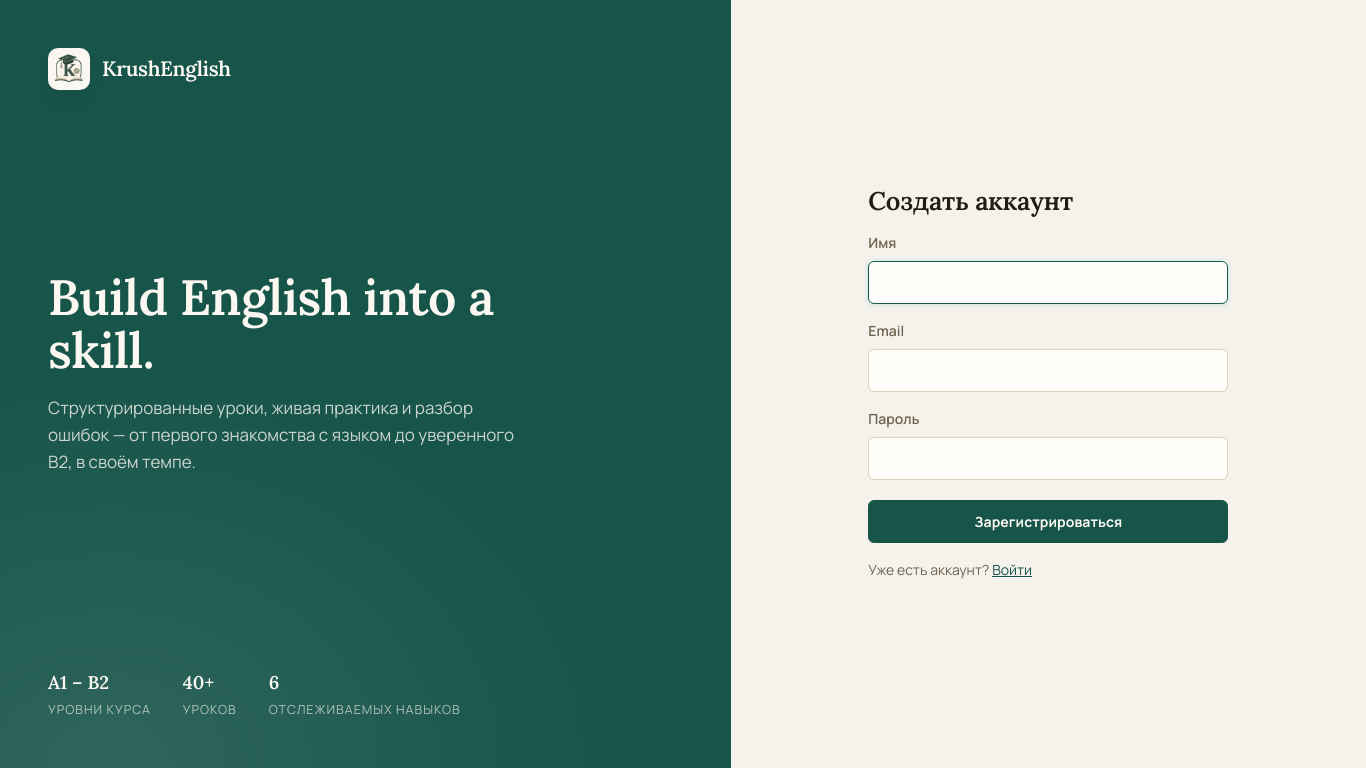
Test: RegisterPage › shows the API's own error message instead of navigating away
The image size is (1366, 768).
Step 1. Type "Анна" into the field labelled "Имя" → point(1048, 282), box [868, 261, 1228, 304]
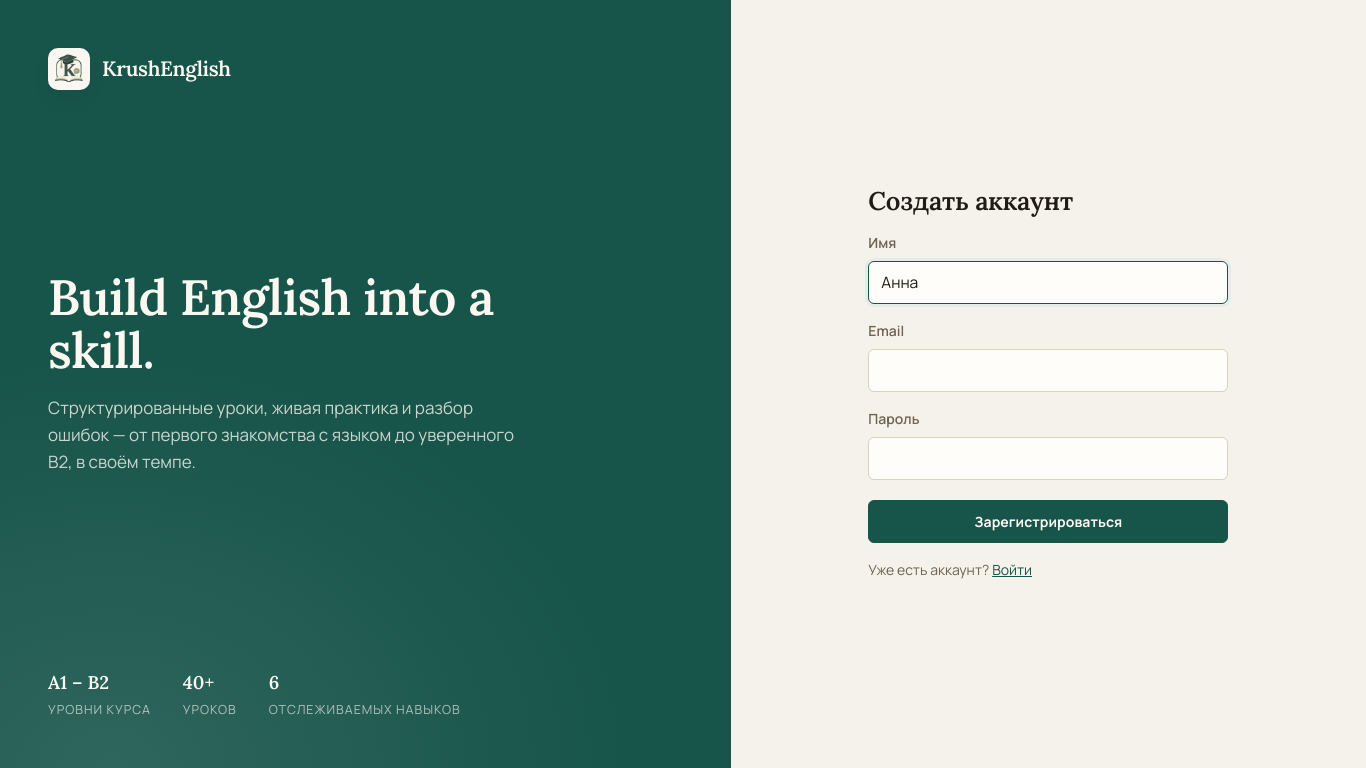
Step 2. Type "anna@example.com" into the field labelled "Email" → point(1048, 370), box [868, 349, 1228, 392]
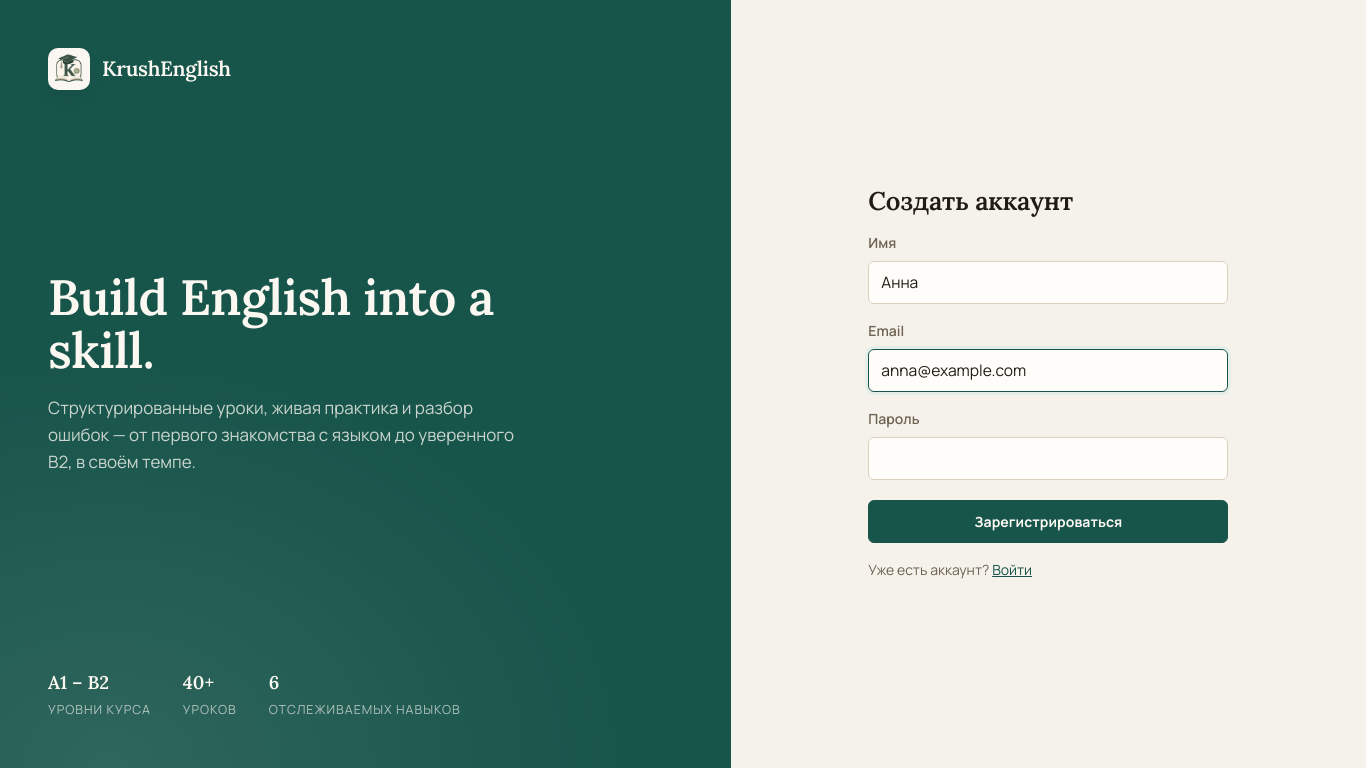
Step 3. Type "password123" into the password field labelled "Пароль" → point(1048, 458), box [868, 437, 1228, 480]
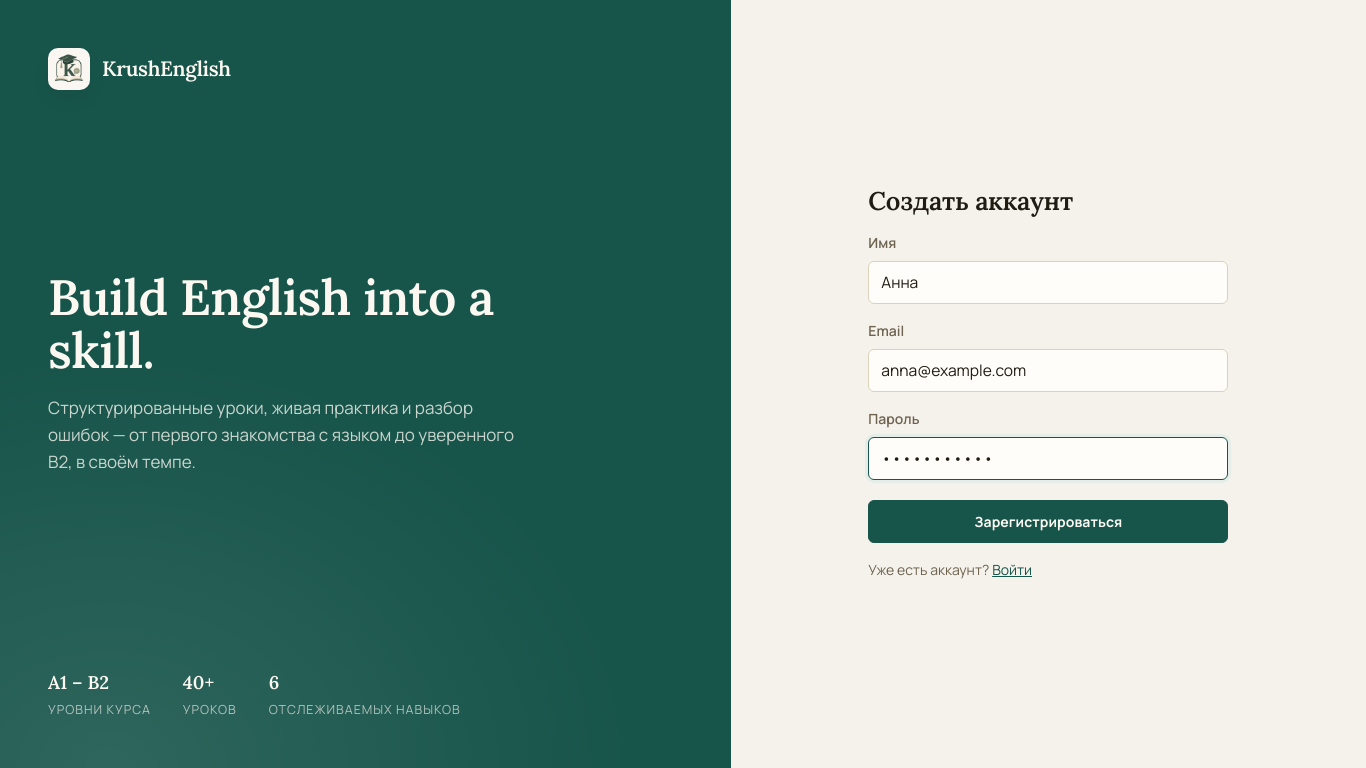
Step 4. Click the button "Зарегистрироваться" → point(1048, 522), box [868, 500, 1228, 543]
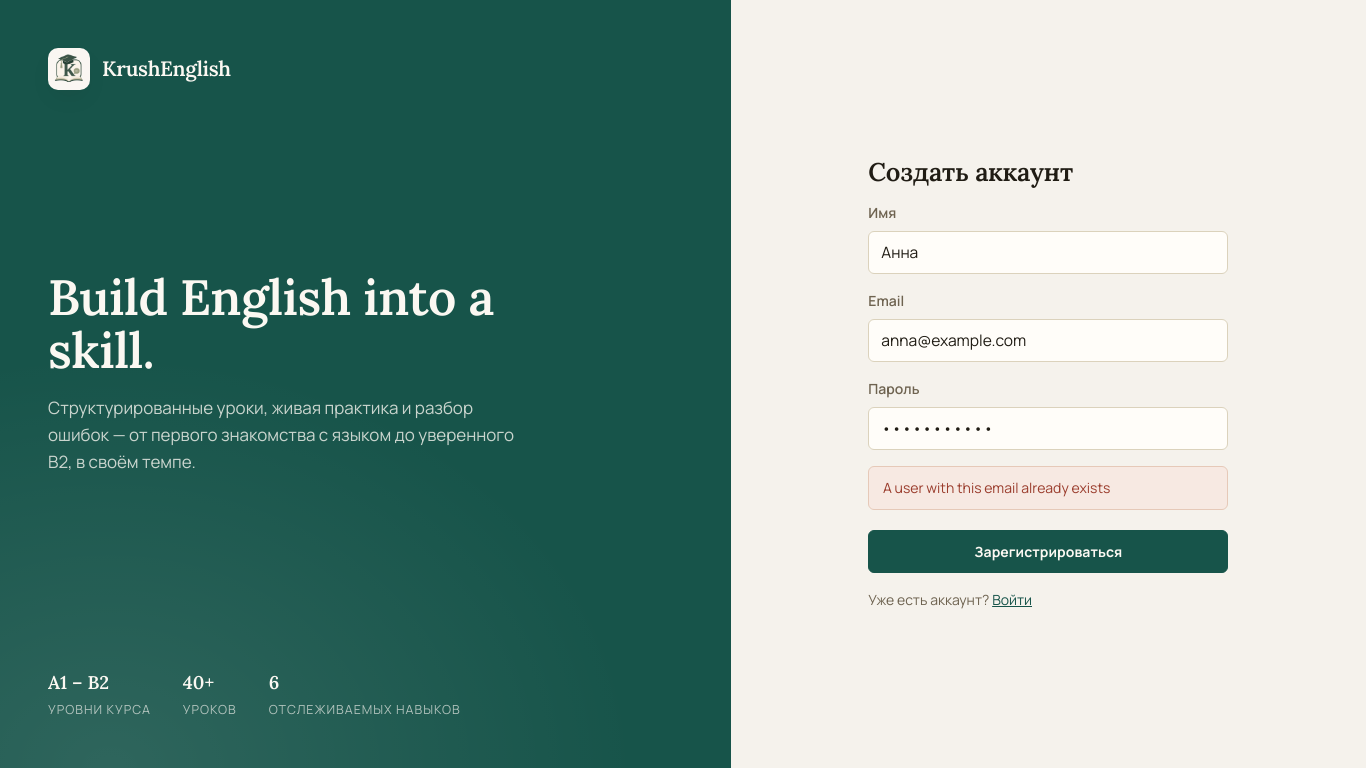
Expected: the text "A user with this email already exists" is shown, [868, 466, 1228, 510]
